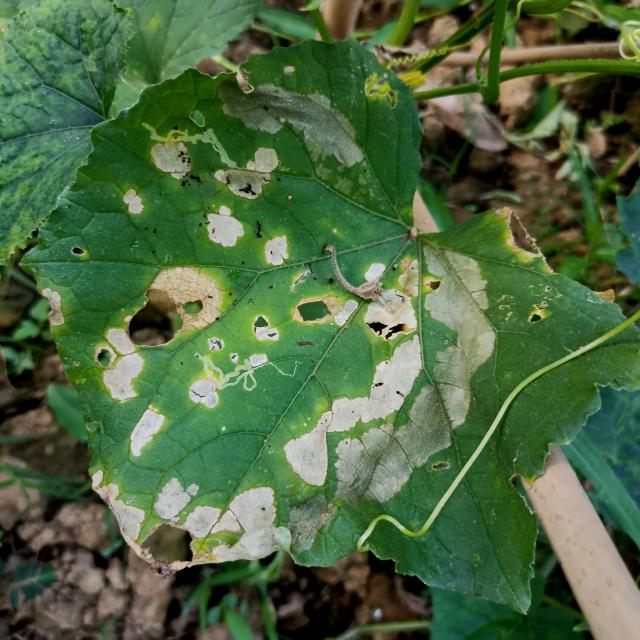disease_cucumber: (216, 242, 504, 554), (68, 261, 226, 568), (115, 83, 359, 264)
